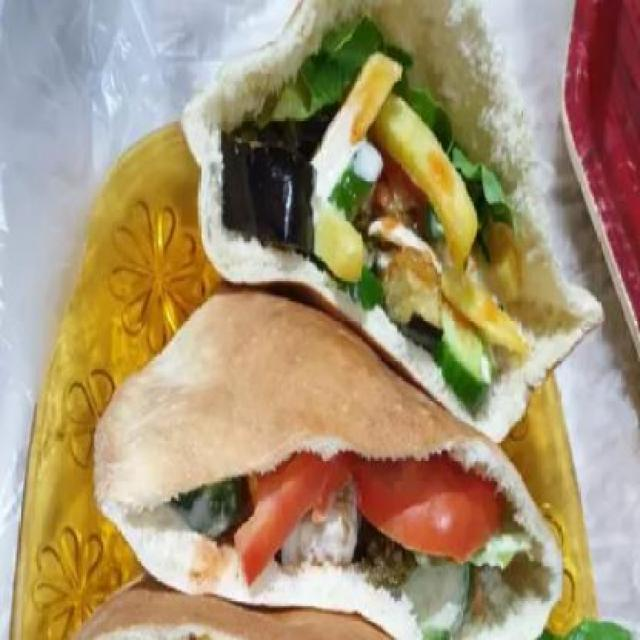eggplant: (216, 115, 318, 243), (380, 252, 442, 342)
falafel: (366, 521, 411, 588)
french fries: (336, 75, 473, 238)
hummus: (287, 496, 359, 564), (313, 121, 376, 197)
